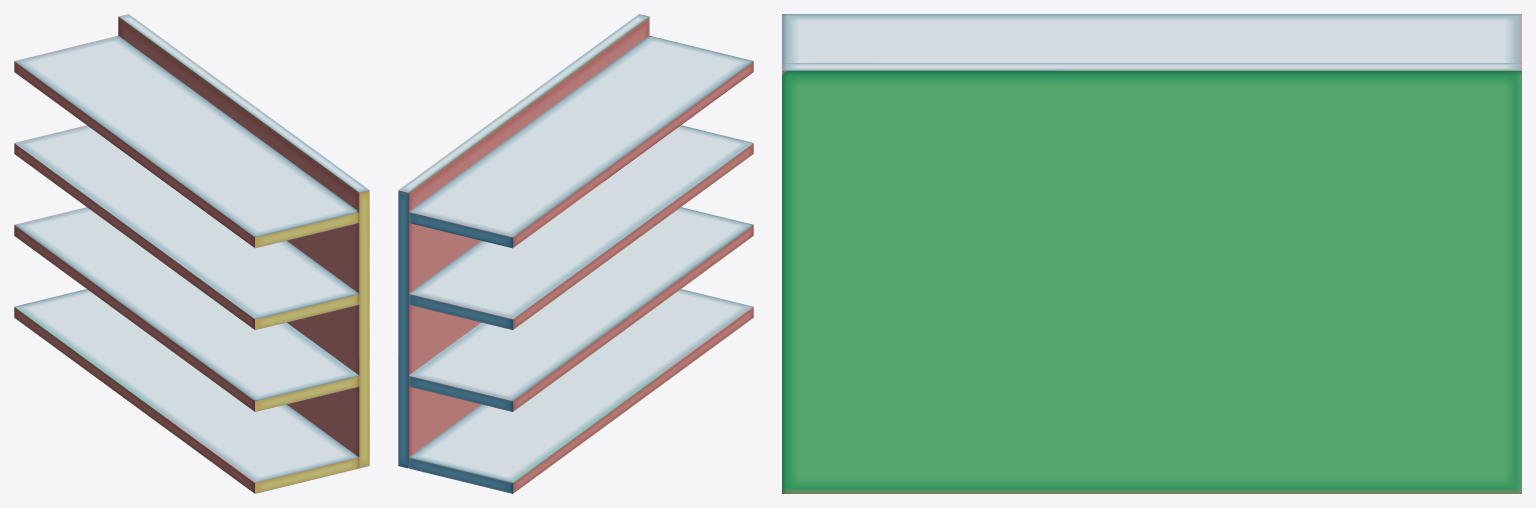
The model's file is Shelves.fbx.
3 renders of one model, left to right at view 1: azimuth 30°, elevation 25°; view 2: azimuth 150°, elevation 25°; view 3: azimuth 270°, elevation 25°, orthographic. The views are drawn at different scales.
Parts seen in each view (by area): view 1: Shelf; view 2: Shelf; view 3: Shelf.
Part boxes in pixels (bbox=[...]): Shelf: bbox=[14, 14, 369, 493]; Shelf: bbox=[398, 14, 753, 493]; Shelf: bbox=[782, 14, 1521, 493].
Bounding box in the file's own units: 27.5 × 63.12 × 100.
1 material, 1 textured.
